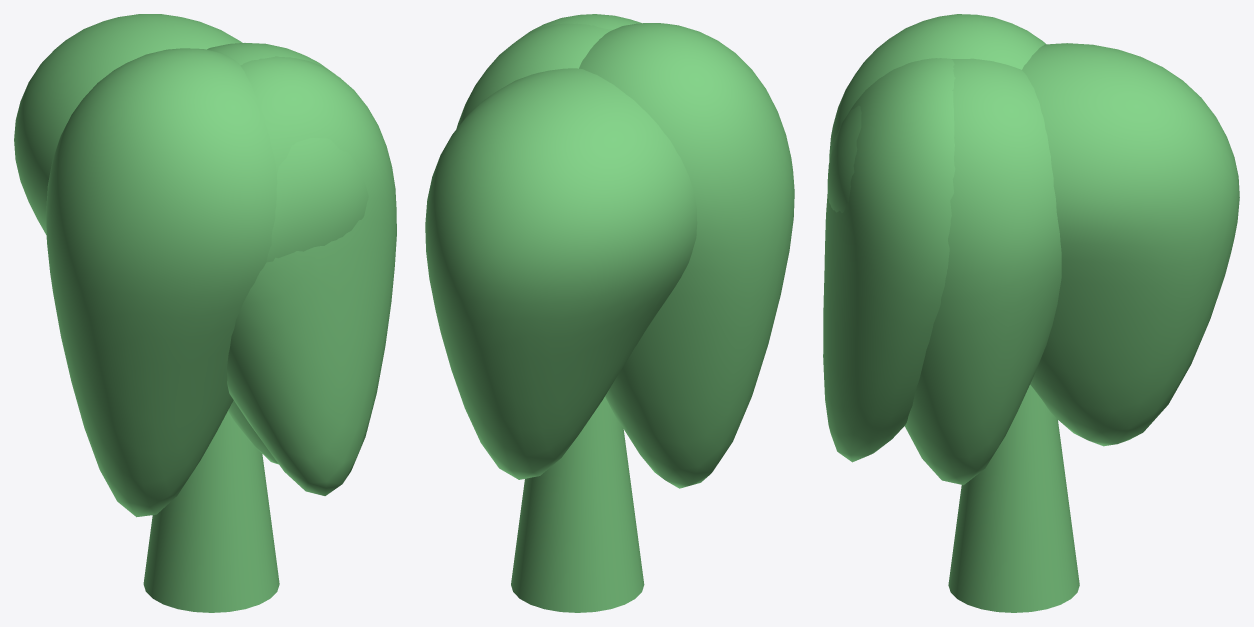
Rendered from DisgustLv2.glb.
The picture shows the model from 3 angles, left to right: view 1: azimuth 30°, elevation 25°; view 2: azimuth 150°, elevation 25°; view 3: azimuth 270°, elevation 25°; orthographic projection. The views are drawn at different scales.
Parts seen in each view (by area): view 1: GeoSphere081, GeoSphere082, Batang027, GeoSphere078, GeoSphere080; view 2: GeoSphere078, GeoSphere081, Batang027, GeoSphere080, GeoSphere082; view 3: GeoSphere078, GeoSphere080, GeoSphere082, Batang027, GeoSphere081.
Part boxes in pixels (bbox=[...]): GeoSphere081: bbox=[46, 48, 277, 517]; GeoSphere082: bbox=[227, 56, 396, 495]; Batang027: bbox=[143, 411, 279, 612]; GeoSphere078: bbox=[14, 14, 242, 234]; GeoSphere080: bbox=[207, 43, 368, 464]; GeoSphere078: bbox=[425, 68, 697, 479]; GeoSphere081: bbox=[579, 23, 794, 488]; Batang027: bbox=[511, 397, 644, 612]; GeoSphere080: bbox=[456, 23, 612, 128]; GeoSphere082: bbox=[516, 14, 641, 41]; GeoSphere078: bbox=[1022, 43, 1239, 446]; GeoSphere080: bbox=[827, 58, 1061, 485]; GeoSphere082: bbox=[823, 58, 955, 462]; Batang027: bbox=[948, 385, 1079, 612]; GeoSphere081: bbox=[829, 14, 1045, 160].
Bounding box in the file's own units: 0.6006 × 1.02 × 0.7171.
